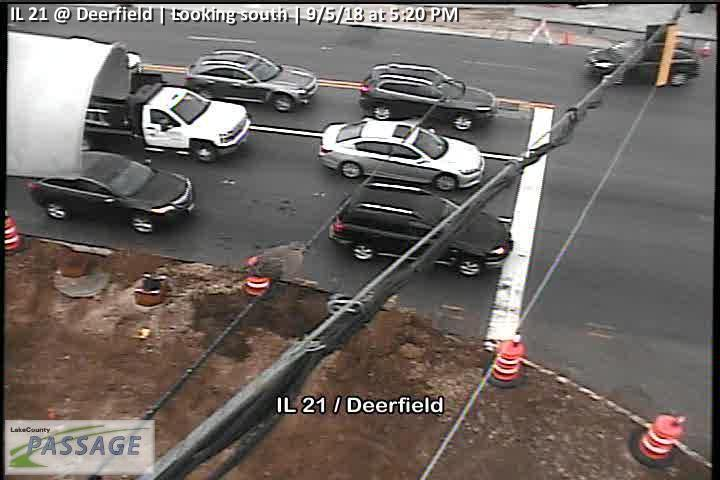SUV: (328, 180, 514, 277), (358, 63, 497, 126), (186, 51, 318, 109)
Sedan: (20, 153, 195, 234), (317, 120, 486, 192), (582, 40, 701, 90)
Truck: (64, 53, 254, 165)
